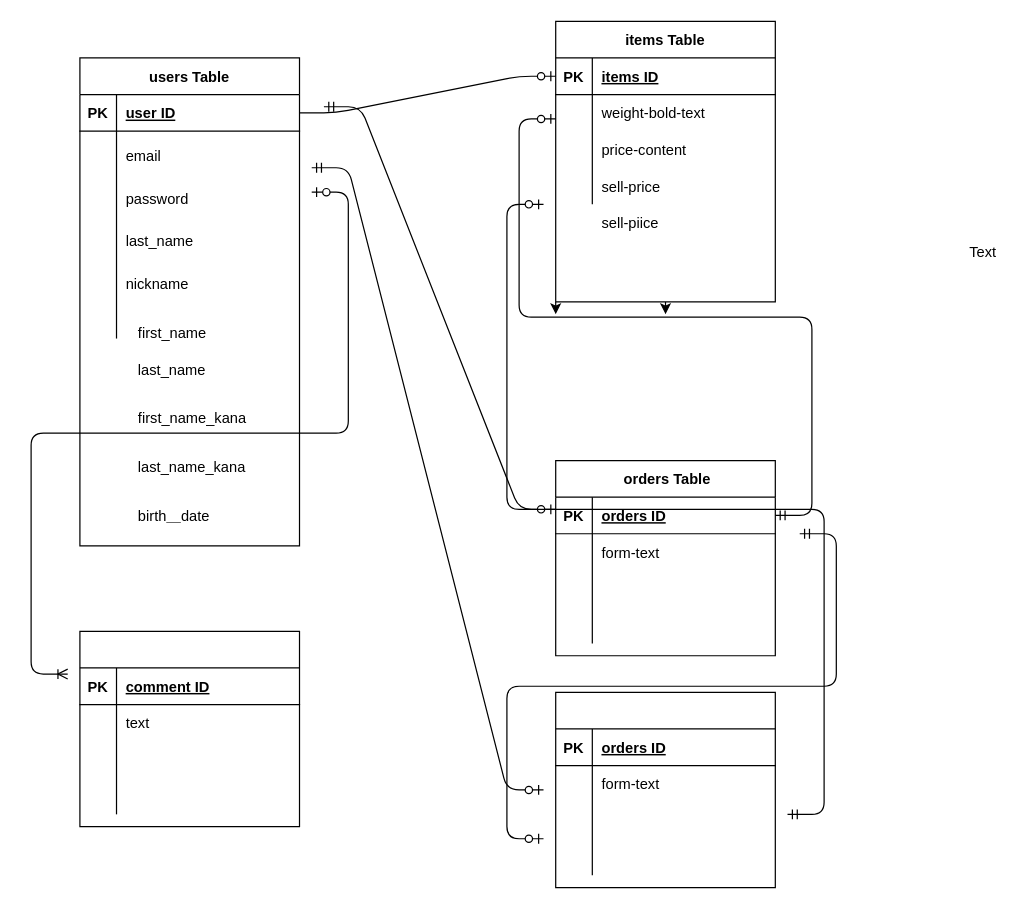
The diagram is 1028 pixels wide and 909 high, and some of its shapes have lost their labels. Here are the shapes that lost their labels. From the top down, the box of each, then its label:
(79, 630, 300, 827): comment Table
(554, 691, 775, 888): address table
